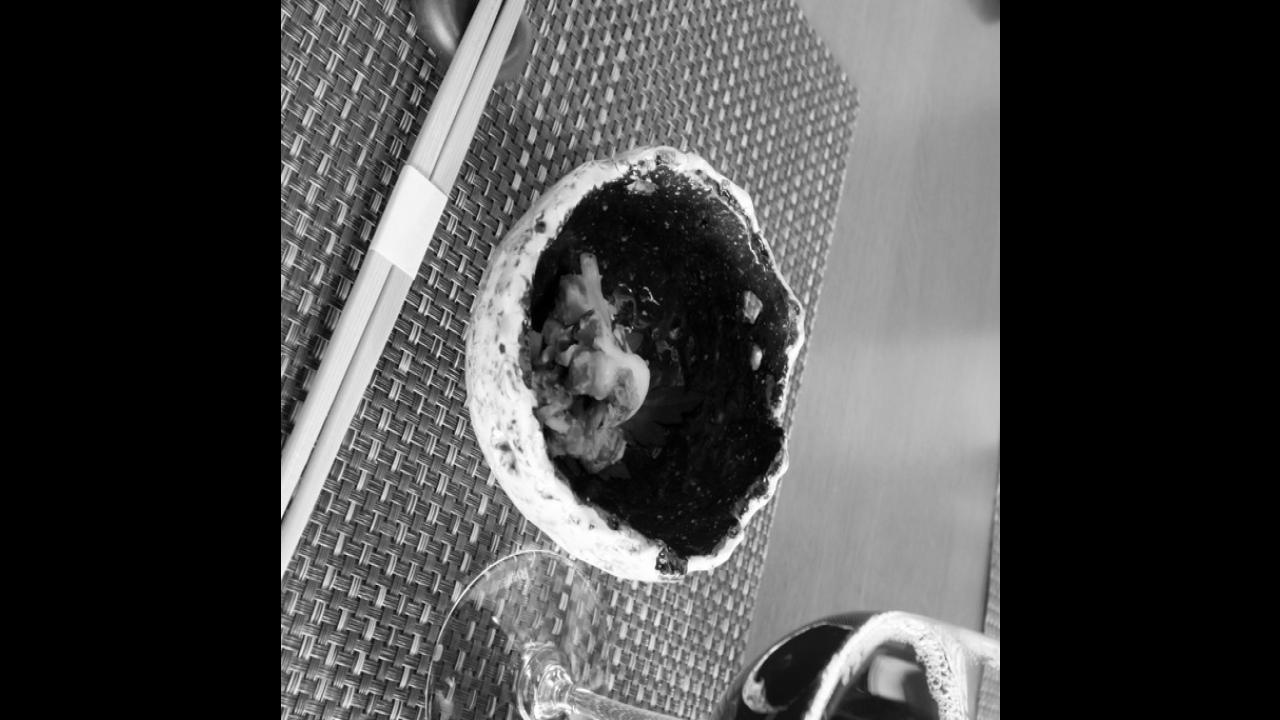chopstick: (280, 0, 571, 575)
